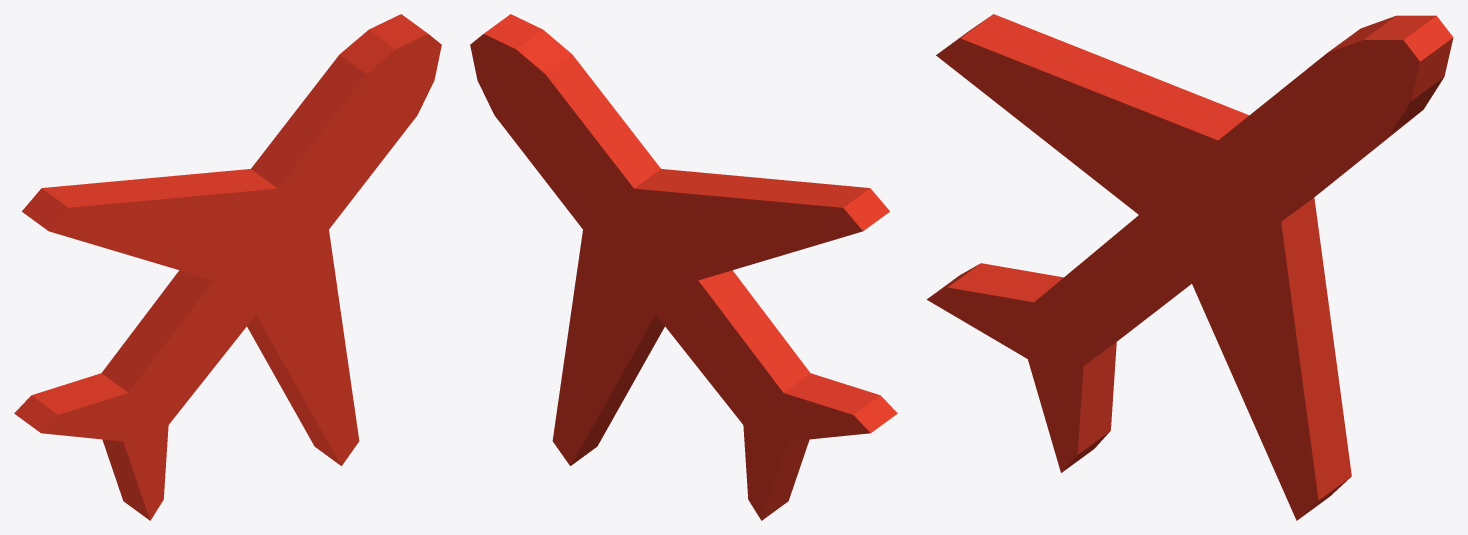
The model's file is Icon_Plane_01.fbx.
3 views of the same model, side by side, from view 1: azimuth 30°, elevation 25°; view 2: azimuth 150°, elevation 25°; view 3: azimuth 330°, elevation 25° (orthographic). The views are drawn at different scales.
Visible parts, largest first — view 1: Icon_Plane_01; view 2: Icon_Plane_01; view 3: Icon_Plane_01.
Boxes of the visible parts, <box> form: Icon_Plane_01: <box>14,14,441,520</box>; Icon_Plane_01: <box>470,14,897,520</box>; Icon_Plane_01: <box>927,14,1453,520</box>.
Size of the model in its own units: 75.76 by 75.76 by 8.85.
